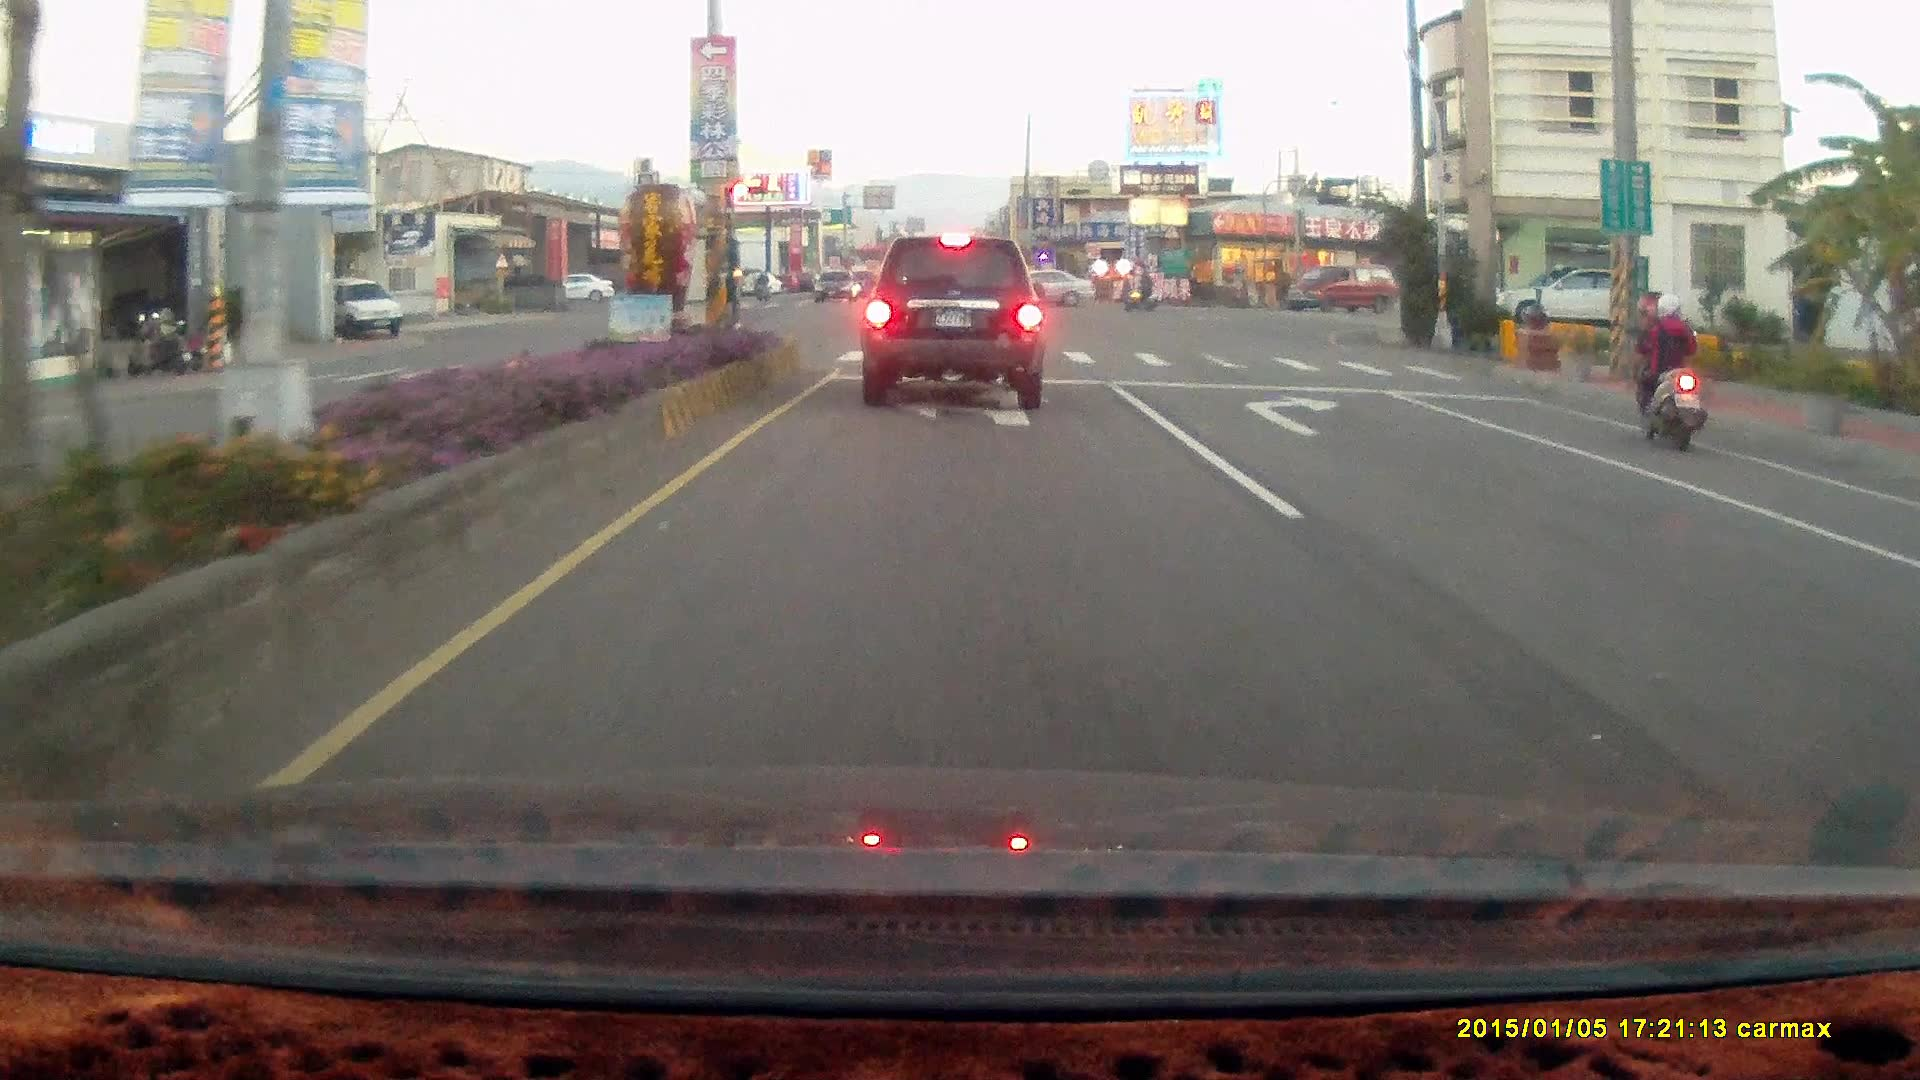rider: (1630, 289, 1706, 453), (1122, 271, 1157, 313)
vehicle: (859, 234, 1046, 410), (1494, 263, 1652, 330), (1494, 266, 1621, 331), (1896, 493, 1920, 836), (1883, 528, 1920, 690), (321, 278, 407, 342), (1285, 262, 1395, 311), (984, 268, 1095, 313), (1289, 268, 1387, 315), (986, 266, 1095, 309)
